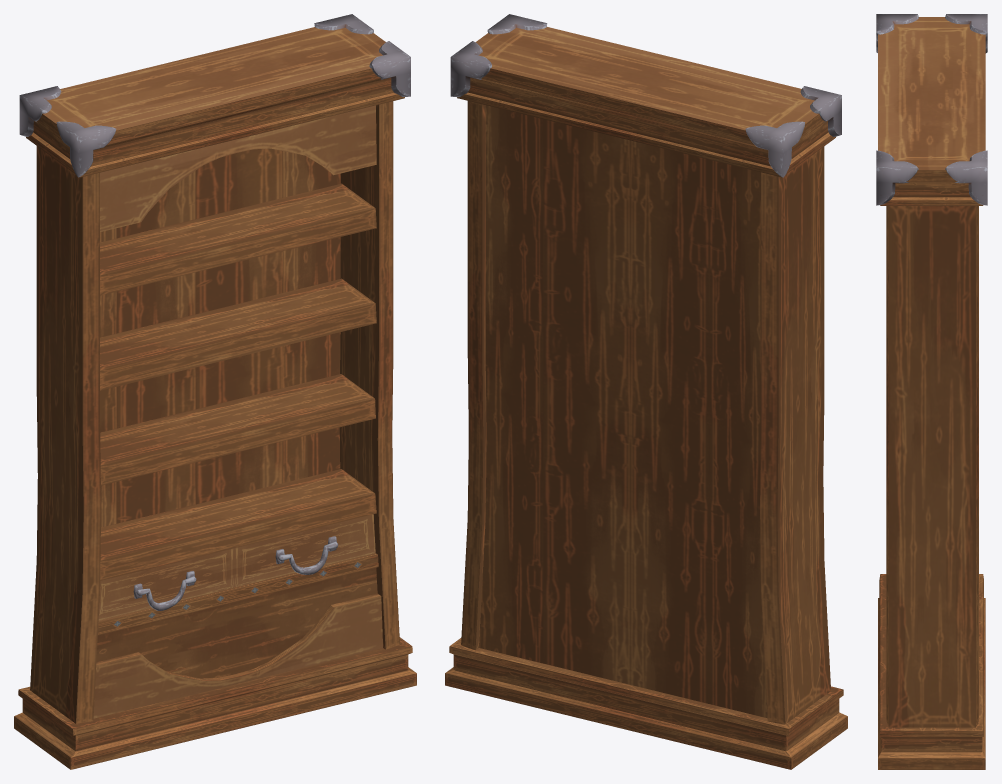
Rendered from Bookcase_2.fbx.
3 views of the same model, side by side, from view 1: azimuth 30°, elevation 25°; view 2: azimuth 150°, elevation 25°; view 3: azimuth 270°, elevation 25° (orthographic). The views are drawn at different scales.
Parts seen in each view (by area): view 1: Bookcase_2; view 2: Bookcase_2; view 3: Bookcase_2.
Boxes of the visible parts, x1,y1,x2,y2 form: Bookcase_2: (14, 14, 416, 769); Bookcase_2: (445, 14, 847, 769); Bookcase_2: (876, 14, 987, 769).
Size of the model in its own units: 146 by 254 by 42.9.
